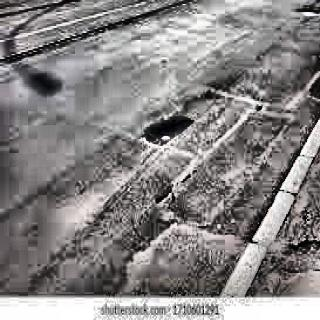pothole: (141, 112, 197, 150)
